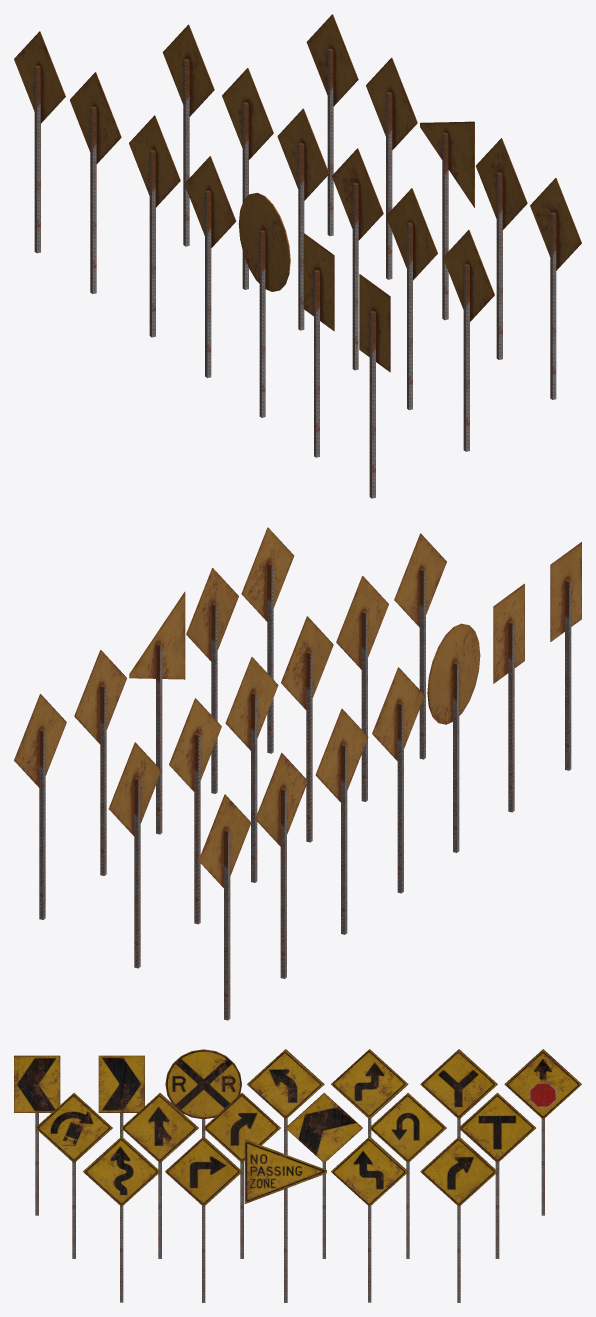
The model's file is Signs.fbx.
3 renders of one model, top to bottom at view 1: azimuth 30°, elevation 25°; view 2: azimuth 150°, elevation 25°; view 3: azimuth 270°, elevation 25°, orthographic. The views are drawn at different scales.
Parts seen in each view (by area): view 1: pCube109.001, pCube114.001, pCube107.001, pCube111.001, pCube98.001, pCube105.001, pCube103.001, pCube112.001, pCube97.001, pCube108.001, pCube100.001, pCube113.001 (+6 smaller); view 2: pCube109.001, pCube114.001, pCube99.001, pCube107.001, pCube111.001, pCube106.001, pCube100.001, pCube108.001, pCube112.001, pCube102.001, pCube105.001, pCube101.001 (+6 smaller); view 3: pCube109.001, pCube114.001, pCube106.001, pCube103.001, pCube97.001, pCube98.001, pCube100.001, pCube107.001, pCube99.001, pCube104.001, pCube101.001, pCube102.001 (+6 smaller).
Part boxes in pixels (x1,y1,x2,y2): pCube109.001: (238,192,290,417); pCube114.001: (420,121,474,320); pCube107.001: (14,31,65,253); pCube111.001: (129,115,180,337); pCube98.001: (530,178,581,399); pCube105.001: (332,148,383,370); pCube103.001: (443,230,494,451); pCube112.001: (70,72,121,293); pCube97.001: (476,138,527,359); pCube108.001: (184,156,236,377); pCube100.001: (306,14,358,236); pCube113.001: (359,274,390,498); pCube109.001: (427,623,480,852); pCube114.001: (129,592,185,834); pCube99.001: (74,650,126,875); pCube107.001: (198,794,251,1020); pCube111.001: (315,708,368,934); pCube106.001: (108,742,161,968); pCube100.001: (14,694,66,919); pCube108.001: (372,667,424,893); pCube112.001: (255,752,307,978); pCube102.001: (225,657,278,882); pCube105.001: (281,616,333,842); pCube101.001: (169,698,221,924); pCube109.001: (165,1049,241,1137); pCube114.001: (244,1139,326,1302); pCube106.001: (459,1093,535,1258); pCube103.001: (35,1093,112,1258); pCube97.001: (165,1136,242,1302); pCube98.001: (83,1136,160,1302); pCube100.001: (420,1136,497,1302); pCube107.001: (504,1049,581,1215); pCube99.001: (331,1136,408,1302); pCube104.001: (121,1093,198,1258); pCube101.001: (369,1093,446,1258); pCube102.001: (285,1093,362,1258).
Size of the model in its own units: 2037 by 1777 by 5498.
